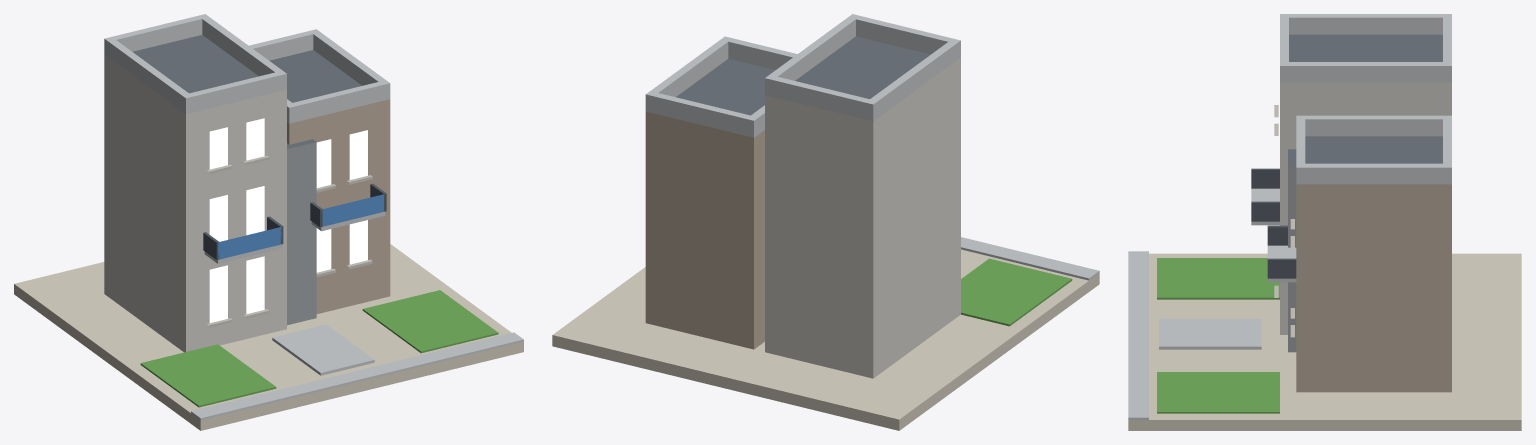
The picture shows the model from 3 angles, left to right: view 1: azimuth 30°, elevation 25°; view 2: azimuth 150°, elevation 25°; view 3: azimuth 270°, elevation 25°; orthographic projection. The views are drawn at different scales.
Parts seen in each view (by area): view 1: b06_v2_lod1; view 2: b06_v2_lod1; view 3: b06_v2_lod1.
Boxes of the visible parts, x1,y1,x2,y2 form: b06_v2_lod1: (14,14,523,430); b06_v2_lod1: (552,14,1099,430); b06_v2_lod1: (1128,14,1521,430).
Bounding box in the file's own units: 0.96 × 0.755 × 0.96.
